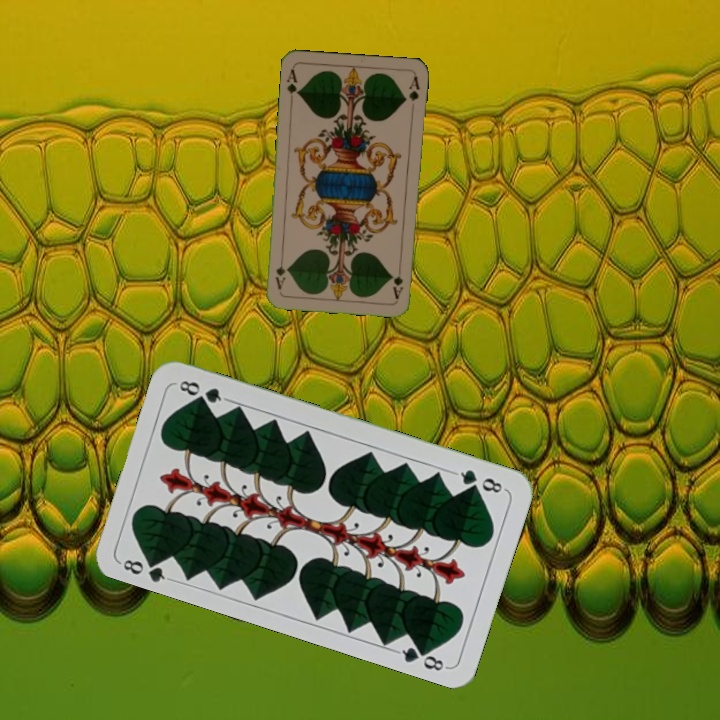G8: (116, 551, 174, 585), (450, 465, 508, 496)
GA: (283, 65, 302, 105), (389, 261, 406, 302)
